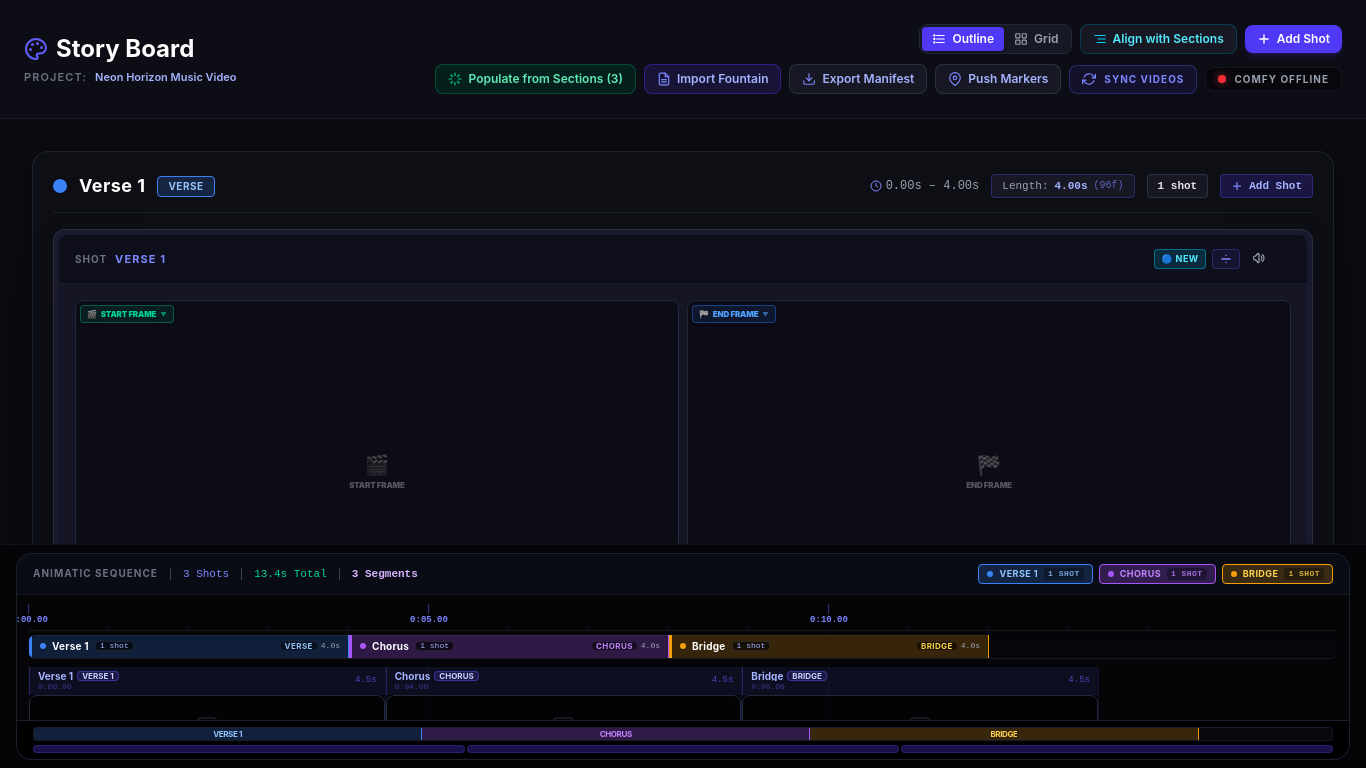
Test: StoryboardModule › renders section cards in Grid view when project has sections but no initial clips
Click the button "Grid" at coordinates (1036, 39), box [1004,27,1068,51]
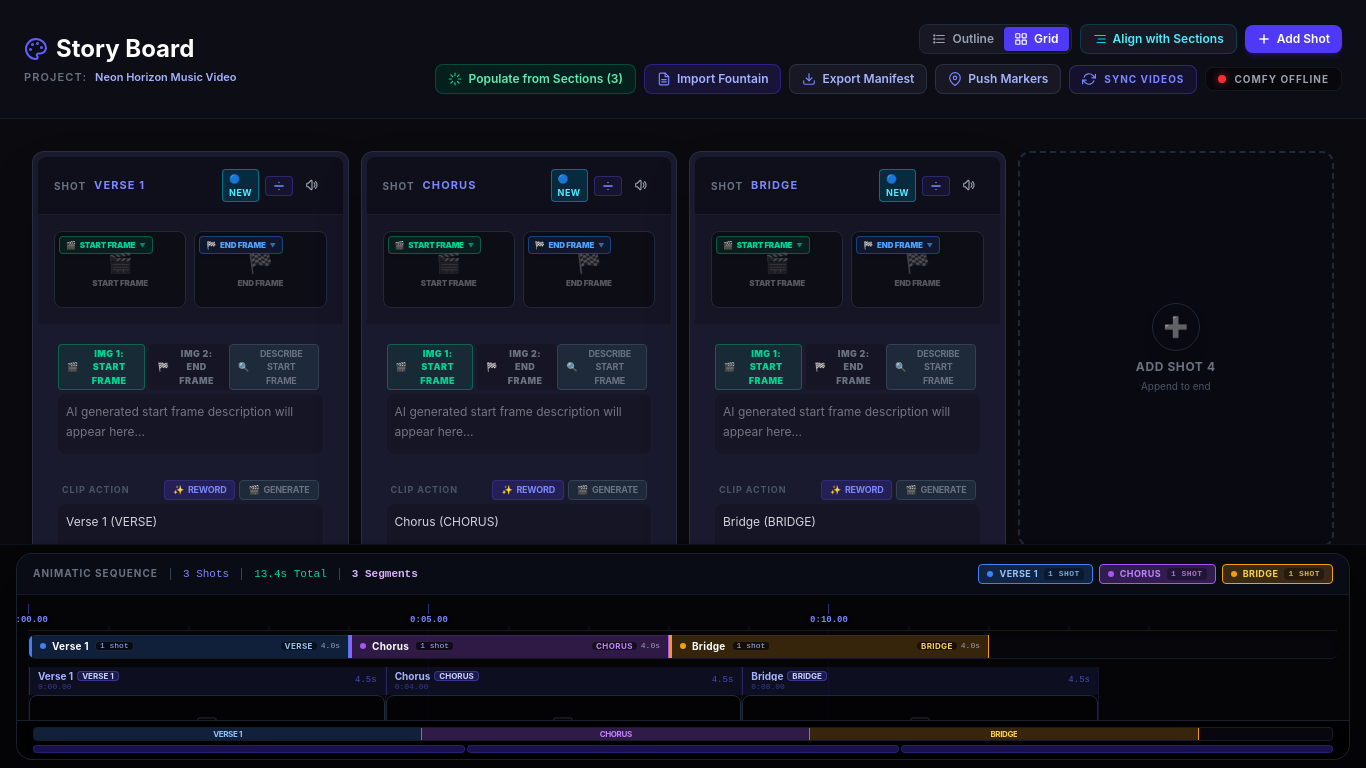
Check: the button "Populate from Sections (3)" is shown, box [436,64,636,94]
Check: the text "Add Shot 4" is shown, box [1136,359,1216,375]
